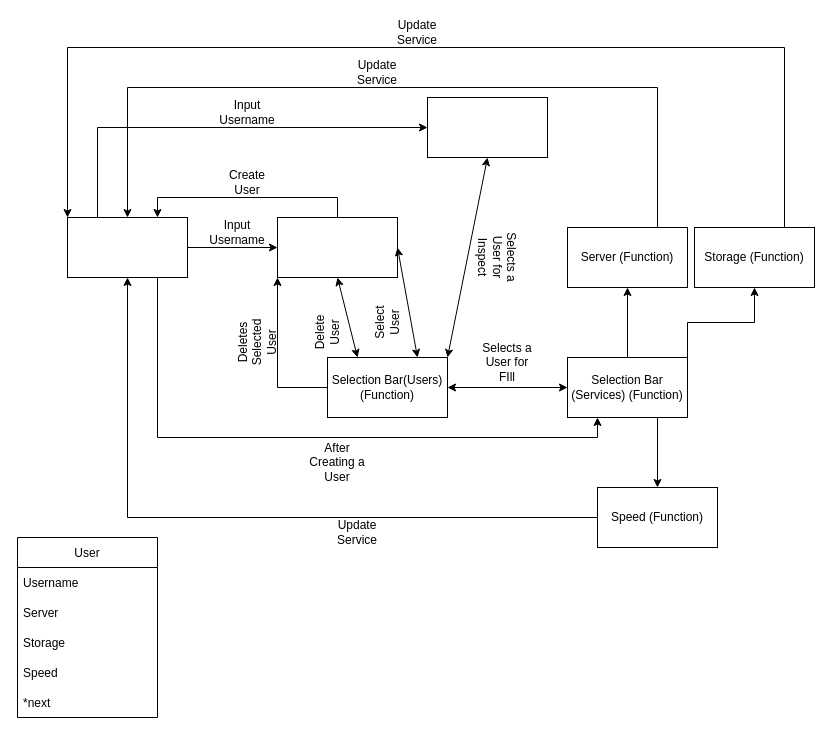
Some shapes in this 832 by 735 pixel diagram are drawn without their labels. The centre of each missing label's shape, as x and y in pixels:
"Menu Bar (Function)" belongs at (x=337, y=247).
"User (Class)" belongs at (x=127, y=247).
"User List (Array)" belongs at (x=487, y=127).
